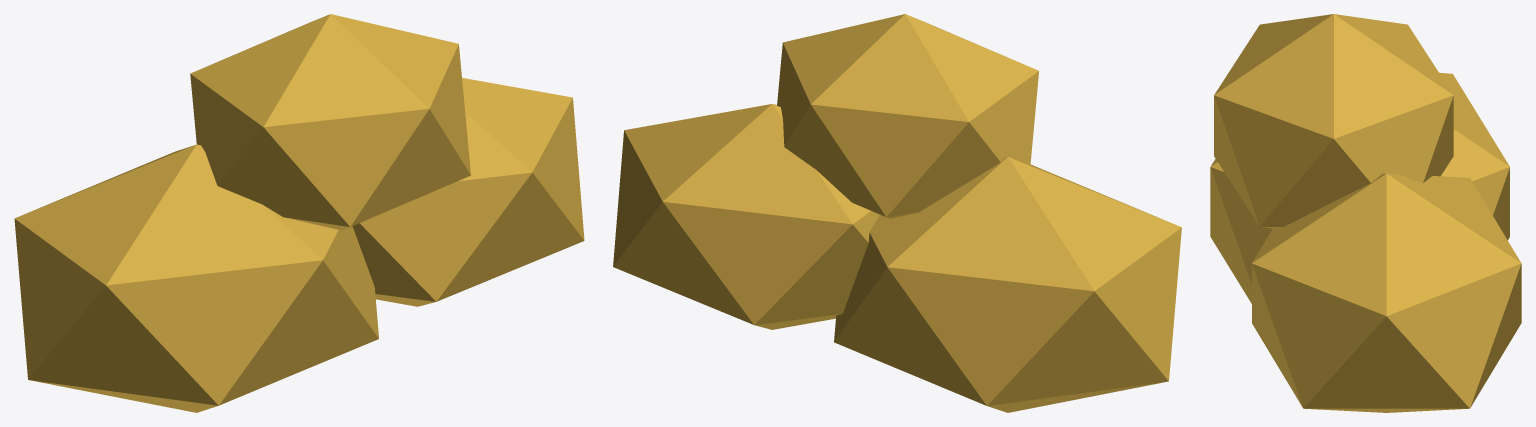
Rendered from pieza-villager-load-gold-Bj7UPvB5.glb.
3 renders of one model, left to right at view 1: azimuth 30°, elevation 25°; view 2: azimuth 150°, elevation 25°; view 3: azimuth 270°, elevation 25°, orthographic. The views are drawn at different scales.
Parts seen in each view (by area): view 1: prop_load_gold; view 2: prop_load_gold; view 3: prop_load_gold.
Part boxes in pixels (x1,y1,x2,y2): prop_load_gold: (14,14,584,412); prop_load_gold: (613,14,1181,412); prop_load_gold: (1210,14,1521,412).
Size of the model in its own units: 3.7 by 2.4 by 1.77.
